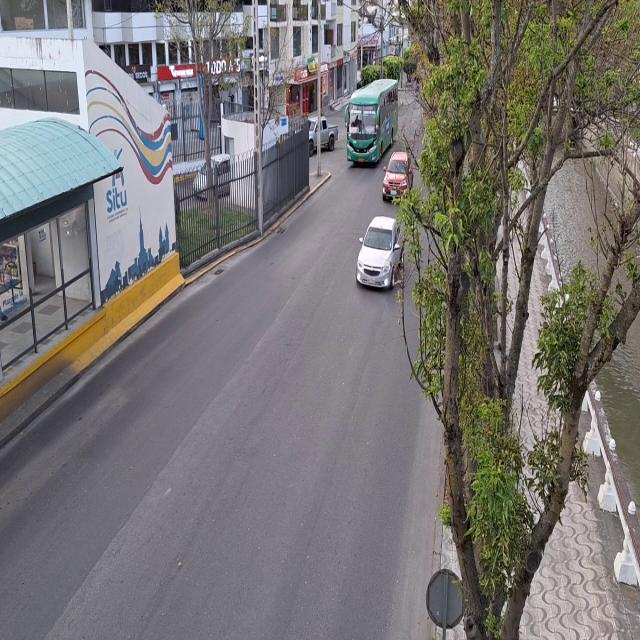BUS: (346, 86, 394, 169)
SED: (355, 214, 403, 289)
